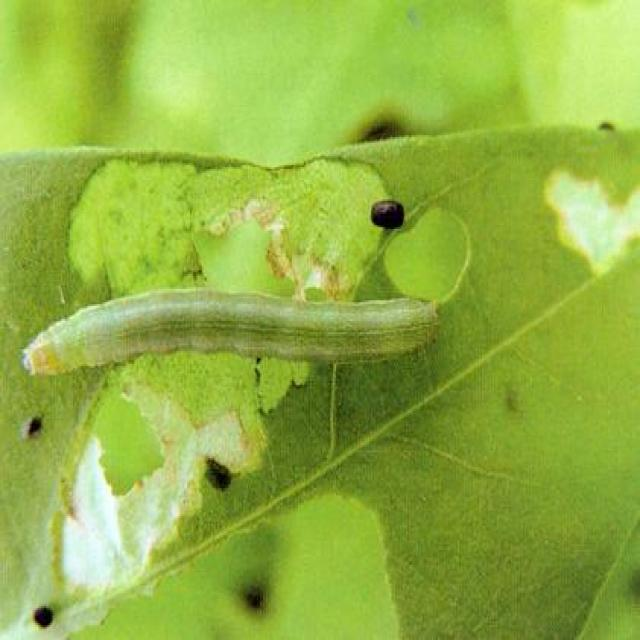BeetArmyWorm-Larva-: (14, 275, 447, 389)
